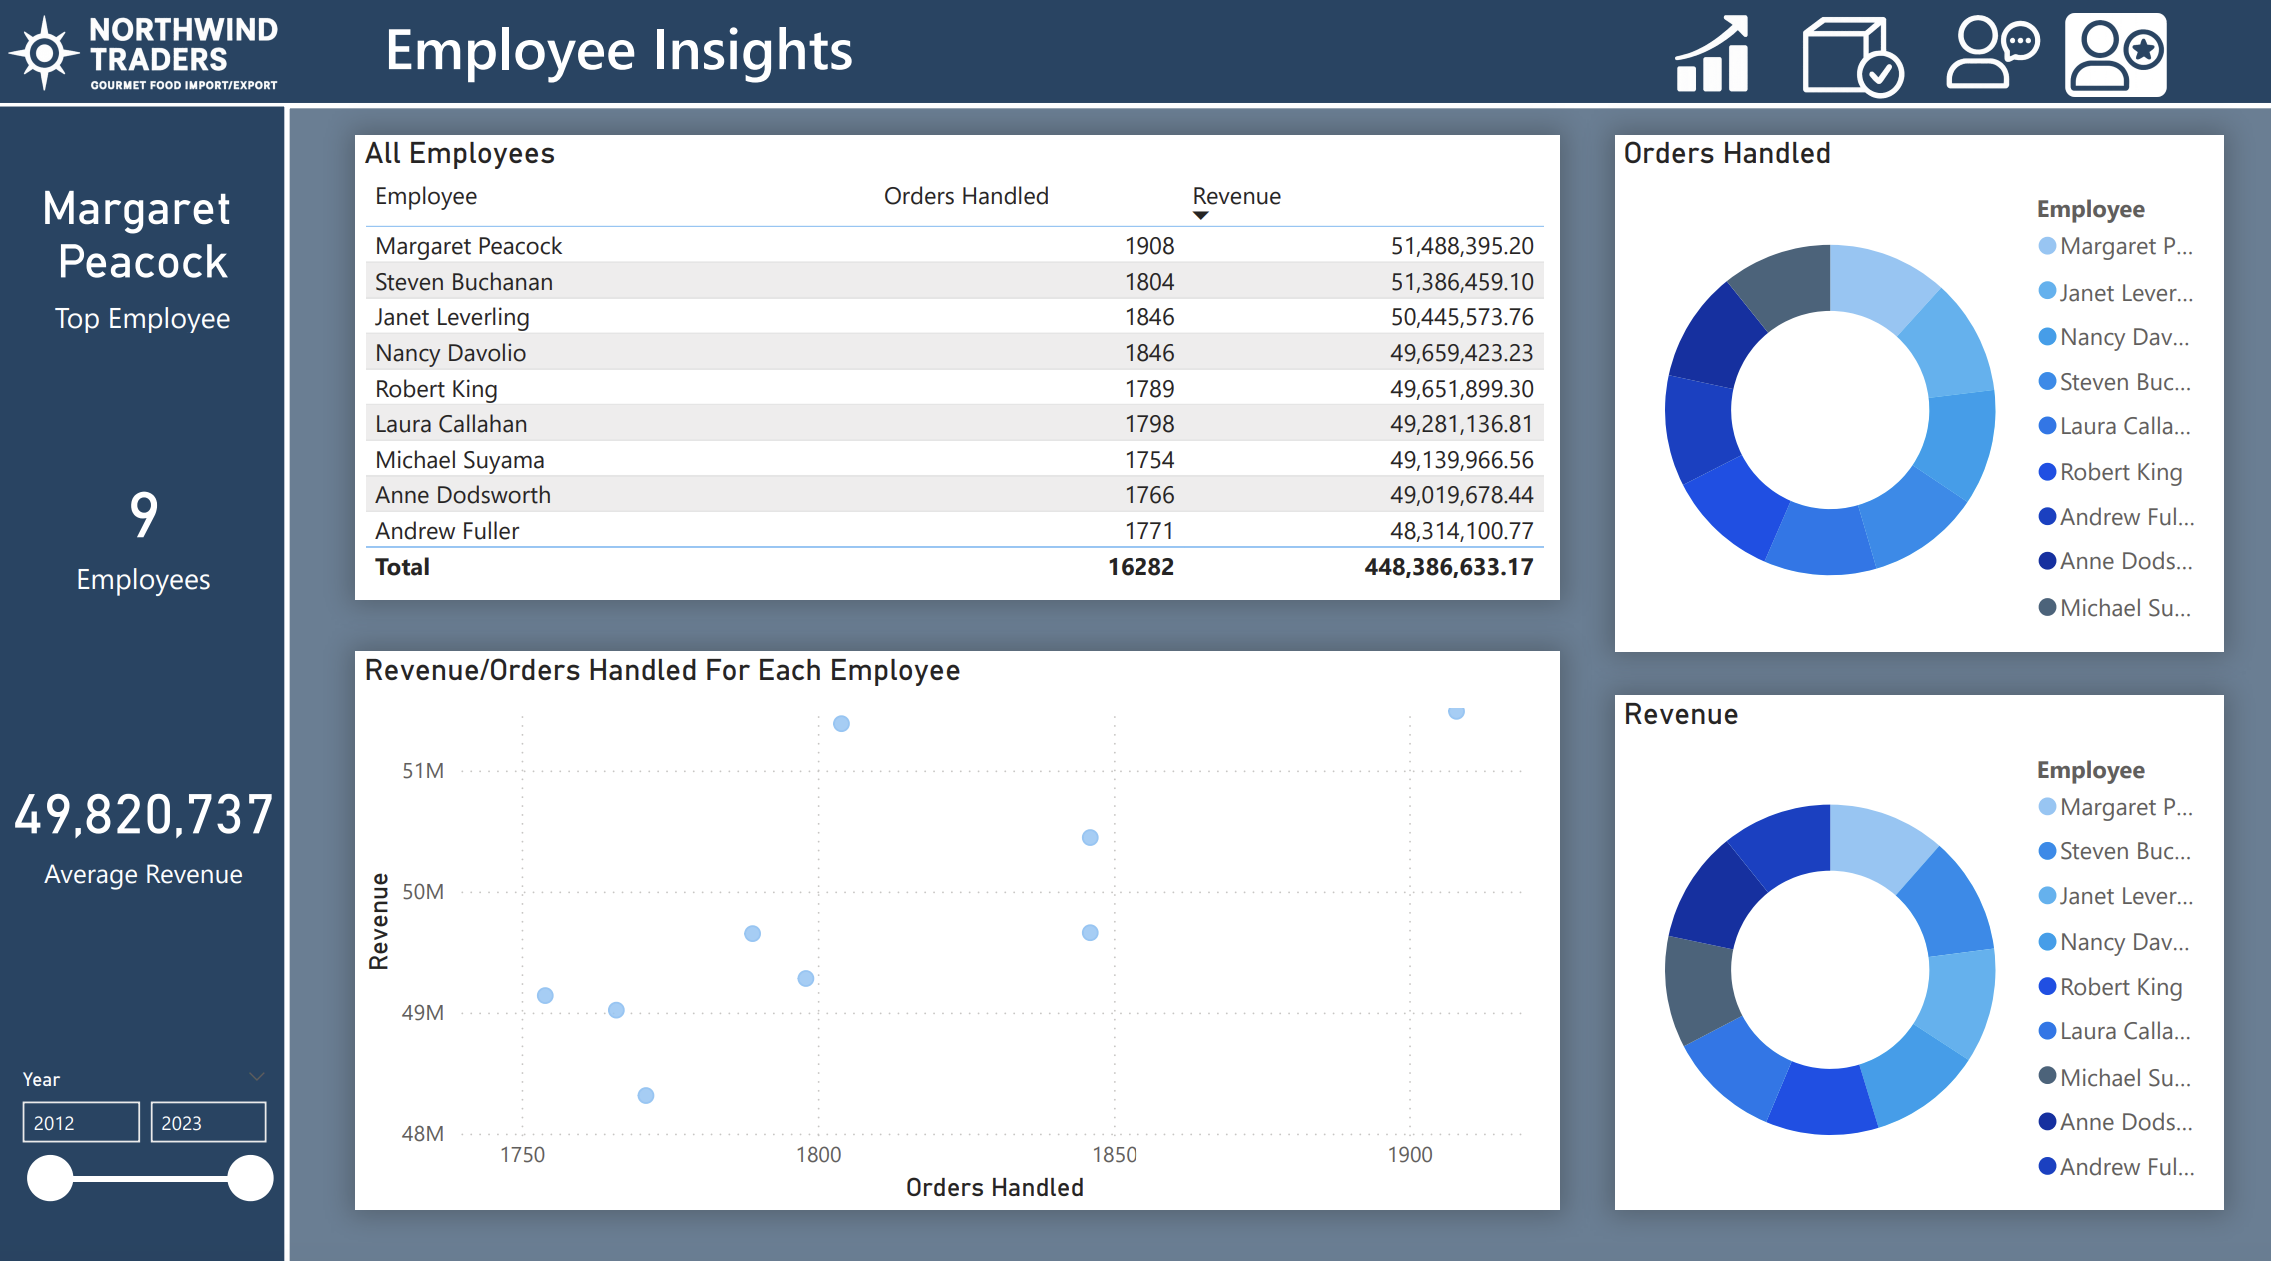

The page's visual inventory and layout, read from the dashboard file:
{"tool":"powerbi","page":{"name":"Employee Insights","canvas":[1280,720],"ordinal":3},"visuals":[{"type":"shape","box":[0,7.8,1280,60.3],"z":0},{"type":"image","box":[0,7.8,163.4,60.3],"z":1000},{"type":"textbox","box":[212,7.8,327.8,60.3],"z":2000},{"type":"shape","box":[162.9,68.9,1117.1,651.5],"z":3000},{"type":"shape","box":[0,68.1,162.4,651.7],"z":4000},{"type":"card","fields":{"Values":["employee_sales.Best Employee"]},"box":[0,97.9,162.9,102.9],"z":5000},{"type":"card","fields":{"Values":["Count(employee_sales.Employee)"]},"box":[0,210.8,163.9,188.9],"z":6000},{"type":"slicer","fields":{"Values":["customer_value.YearMonth.Variation.Date Hierarchy.Year"]},"box":[1,604,162.4,115.7],"z":7000},{"type":"image","box":[1156.2,6.5,68.8,65.4],"z":7500},{"type":"card","fields":{"Values":["employee_sales.Average Revenue"]},"box":[1,422.7,161.9,101.9],"z":8000},{"type":"tableEx","title":"All Employees","fields":{"Values":["employee_sales.Employee","Sum(employee_sales.OrdersHandled)","Sum(employee_sales.Revenue)"]},"box":[200.8,84.9,677.5,260.8],"z":9000},{"type":"scatterChart","title":"Revenue/Orders Handled For Each Employee","fields":{"Category":["employee_sales.Employee"],"X":["Sum(employee_sales.OrdersHandled)"],"Y":["Sum(employee_sales.Revenue)"]},"box":[200.8,374.7,677.5,314.8],"z":10000},{"type":"donutChart","title":"Revenue","fields":{"Category":["employee_sales.Employee"],"Y":["Sum(employee_sales.Revenue)"]},"box":[909.3,399.7,341.7,289.8],"z":11000},{"type":"donutChart","title":"Orders Handled","fields":{"Category":["employee_sales.Employee"],"Y":["Sum(employee_sales.OrdersHandled)"]},"box":[909.3,84.9,341.7,289.8],"z":12000},{"type":"image","box":[927.3,0.9,74.1,75],"z":14000},{"type":"image","box":[1001,0,82.4,80.5],"z":15000},{"type":"image","box":[1083.3,1,72.9,74.3],"z":17000}]}

Visuals, with their boxes in screenshot pixels (x1, y1, x2, y2), scaled from the page's 1280x720 canvas onto the 2271x1261 screenshot:
shape: crop(0, 14, 2270, 119)
image: crop(0, 14, 290, 119)
textbox: crop(376, 14, 958, 119)
shape: crop(289, 121, 2270, 1260)
shape: crop(0, 119, 288, 1260)
card - employee_sales.Best Employee: crop(0, 171, 289, 352)
card - Count(employee_sales.Employee): crop(0, 369, 291, 700)
slicer - customer_value.YearMonth.Variation.Date Hierarchy.Year: crop(2, 1058, 290, 1260)
image: crop(2051, 11, 2173, 126)
card - employee_sales.Average Revenue: crop(2, 740, 289, 919)
"All Employees" tableEx: crop(356, 149, 1558, 605)
"Revenue/Orders Handled For Each Employee" scatterChart: crop(356, 656, 1558, 1208)
"Revenue" donutChart: crop(1613, 700, 2220, 1208)
"Orders Handled" donutChart: crop(1613, 149, 2220, 656)
image: crop(1645, 2, 1777, 133)
image: crop(1776, 0, 1922, 141)
image: crop(1922, 2, 2051, 132)
